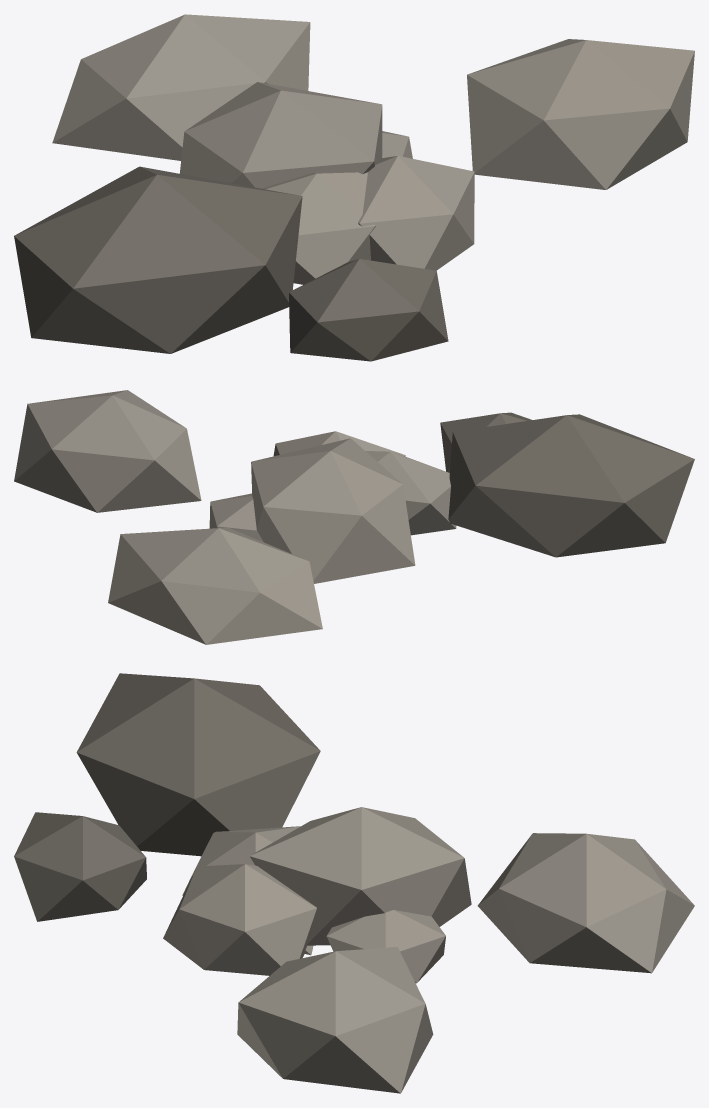
Rendered from HS_LP_Ground_Pebbles_01.fbx.
The picture shows the model from 3 angles, top to bottom: view 1: azimuth 30°, elevation 25°; view 2: azimuth 150°, elevation 25°; view 3: azimuth 270°, elevation 25°; orthographic projection. The views are drawn at different scales.
Visible parts, largest first — view 1: HS_LP_Ground_Pebbles_01; view 2: HS_LP_Ground_Pebbles_01; view 3: HS_LP_Ground_Pebbles_01.
Part boxes in pixels (<box>): HS_LP_Ground_Pebbles_01: <box>14,14,694,361</box>; HS_LP_Ground_Pebbles_01: <box>14,390,694,644</box>; HS_LP_Ground_Pebbles_01: <box>14,673,694,1093</box>.
Size of the model in its own units: 47.92 by 10.94 by 40.56.
